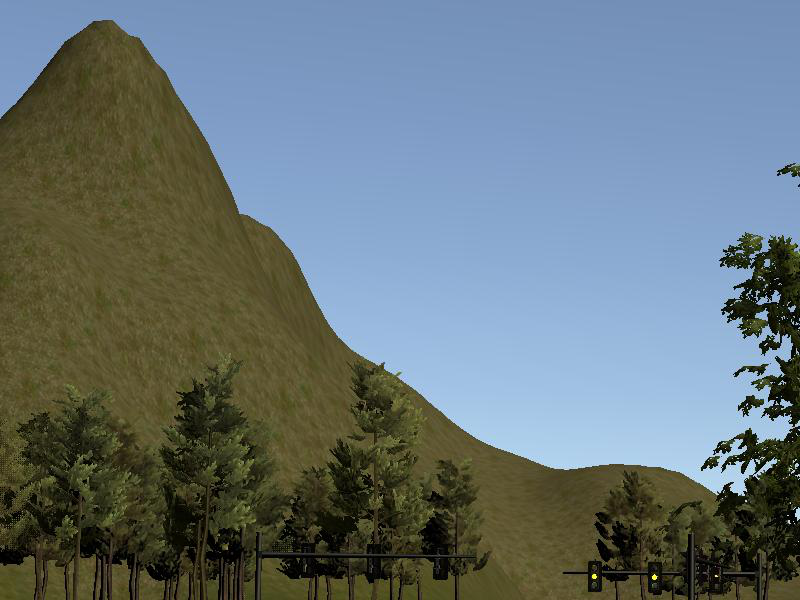yellow: (648, 560, 664, 595), (708, 562, 724, 590), (588, 561, 602, 591)
